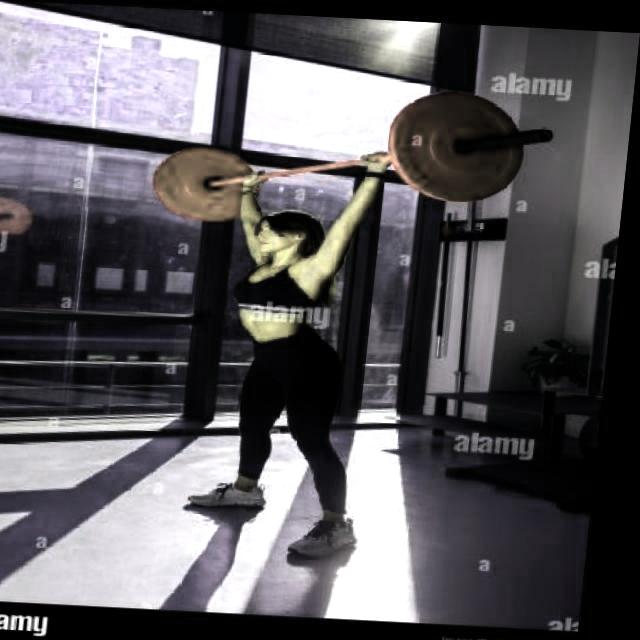barbell: (380, 81, 567, 207)
